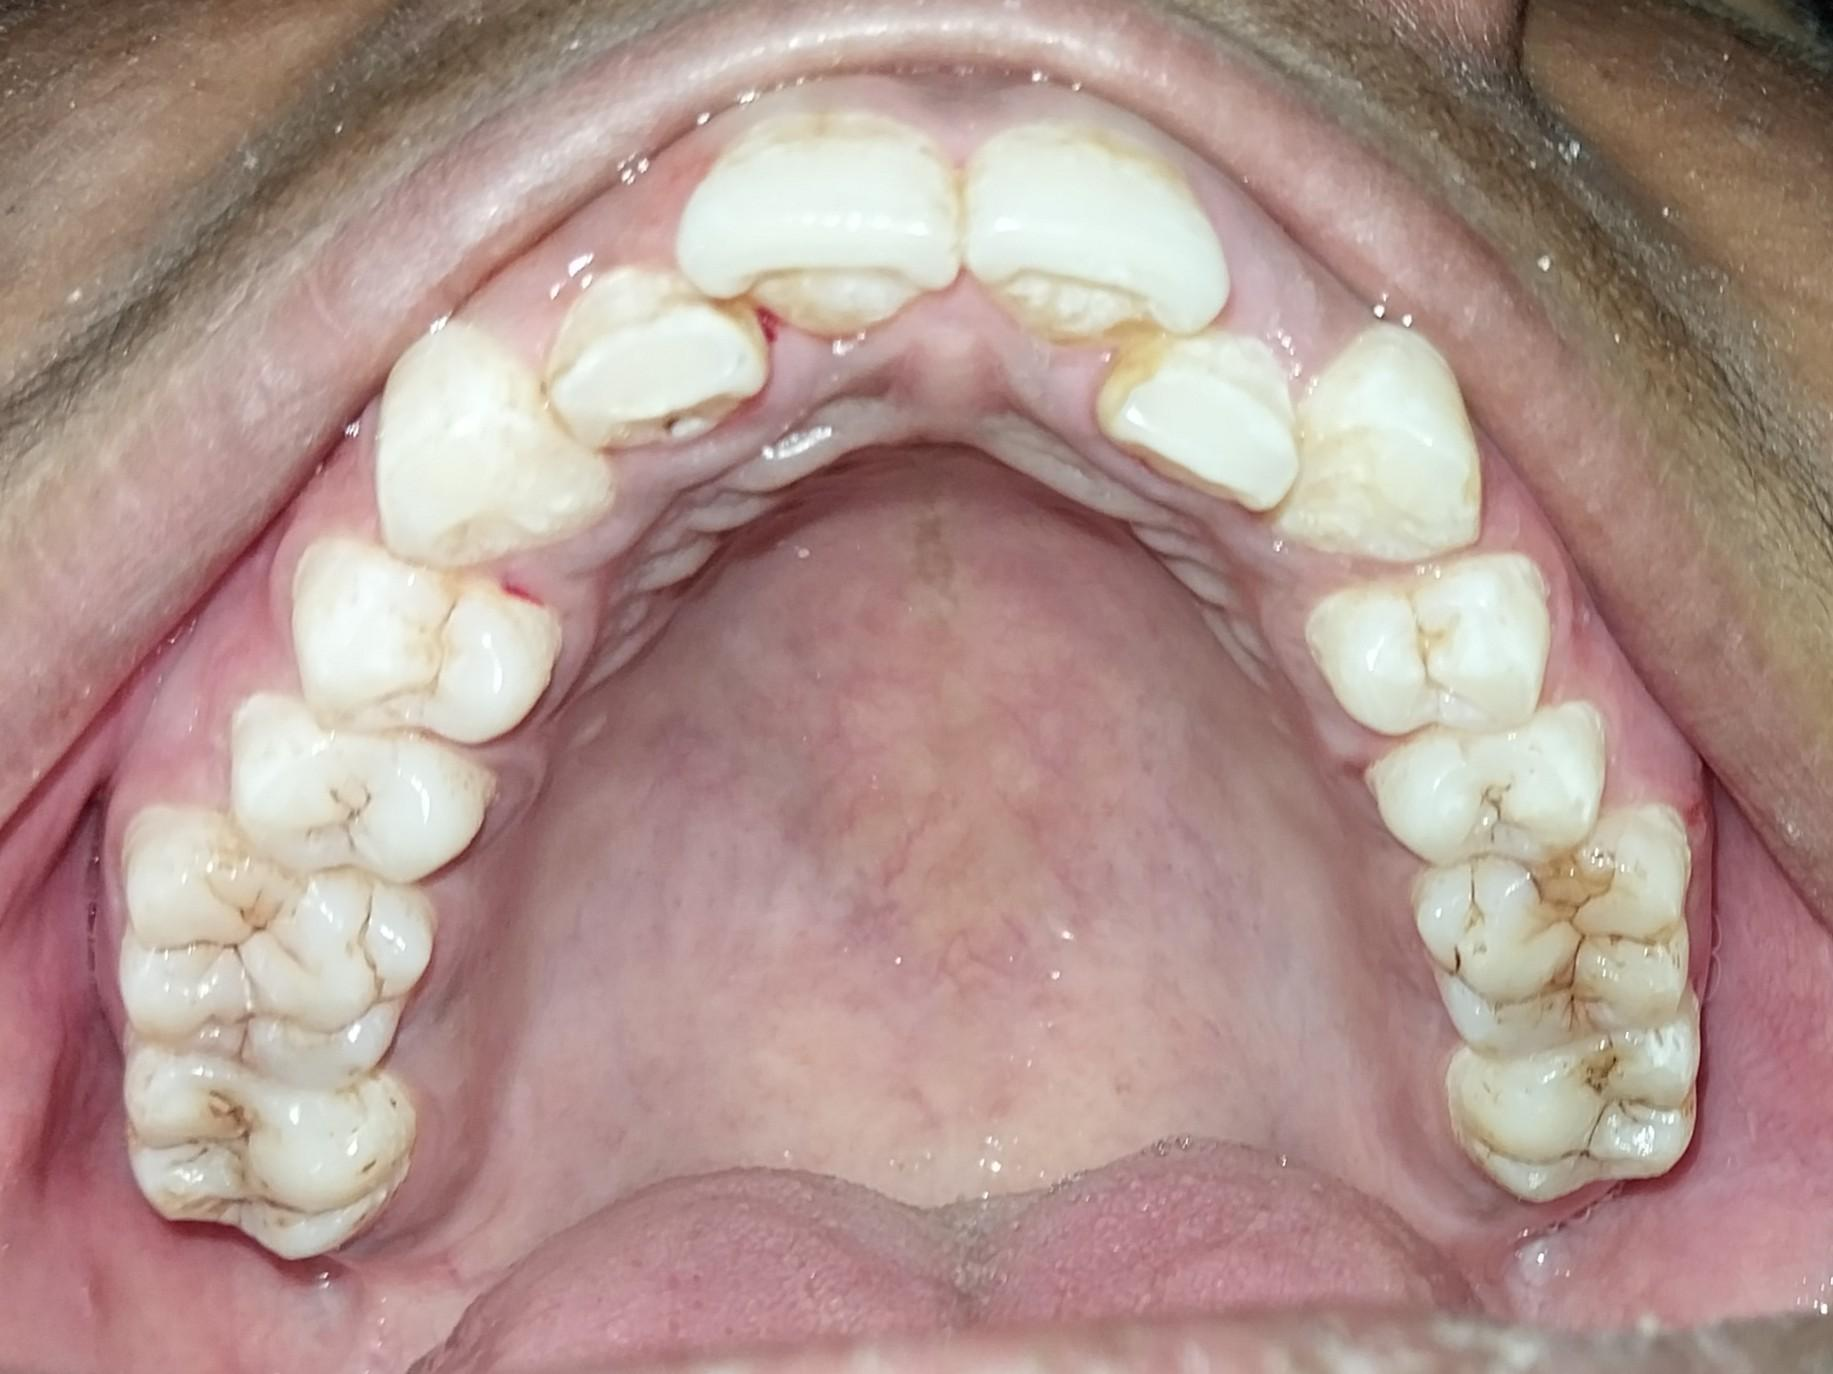D: (1435, 1038, 1711, 1203), (1367, 721, 1614, 877)
